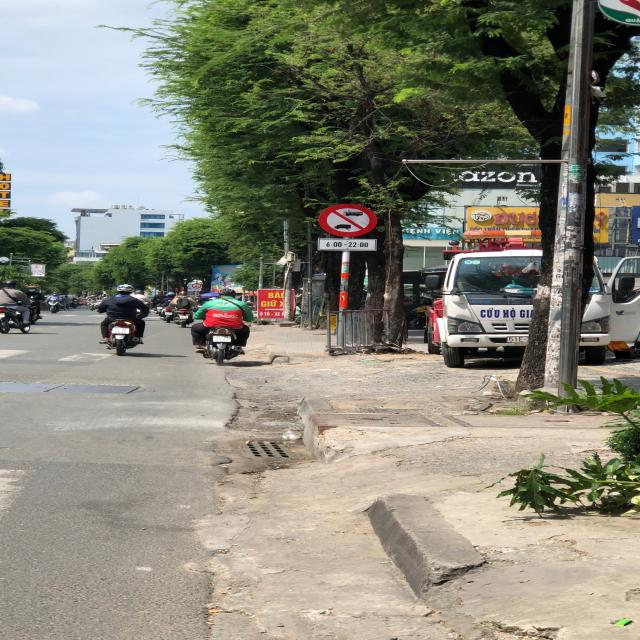Bien bao cam xe oto khach va xe oto tai: (316, 202, 383, 238)
